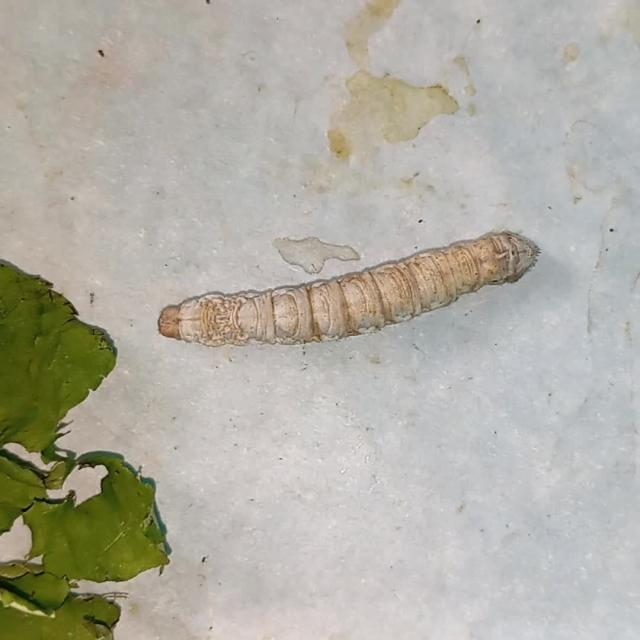Grasserie: (125, 188, 552, 404)
